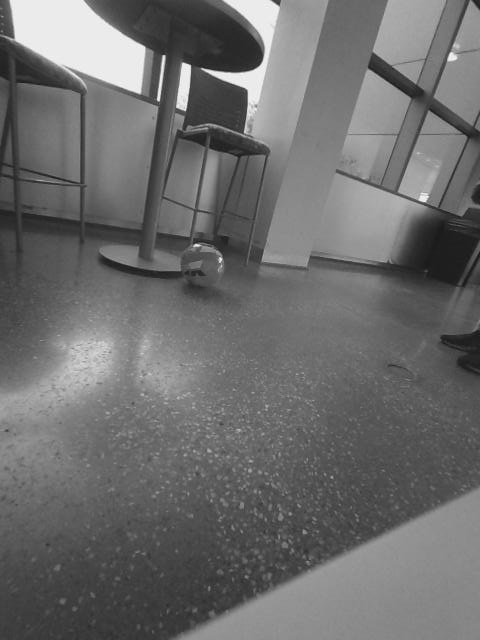ball: (177, 240, 227, 291)
